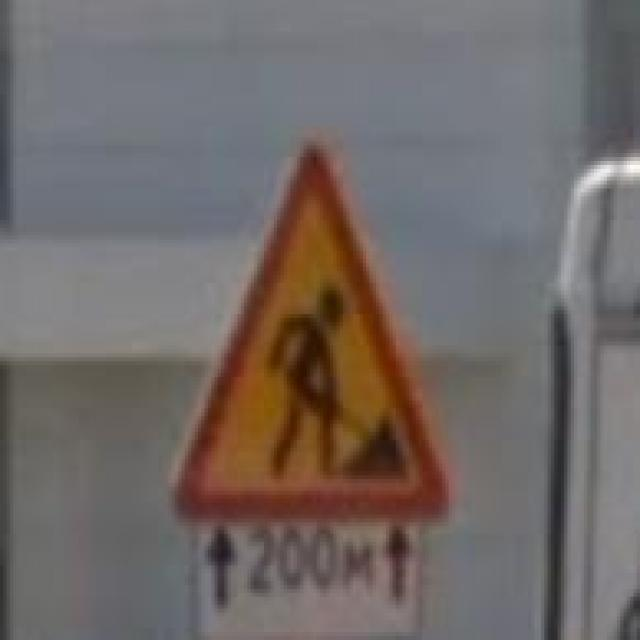traffic_sign: (172, 142, 452, 522)
